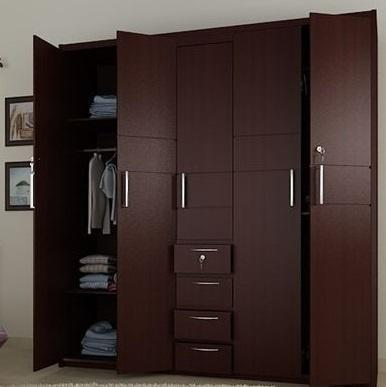Armario: (27, 8, 377, 383)
